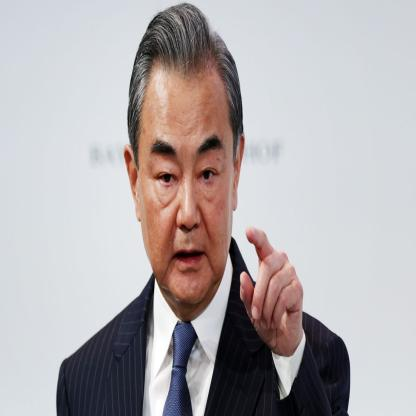person: (122, 3, 246, 310)
